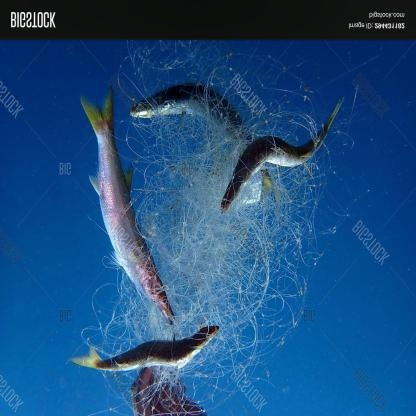net: (148, 94, 291, 383)
